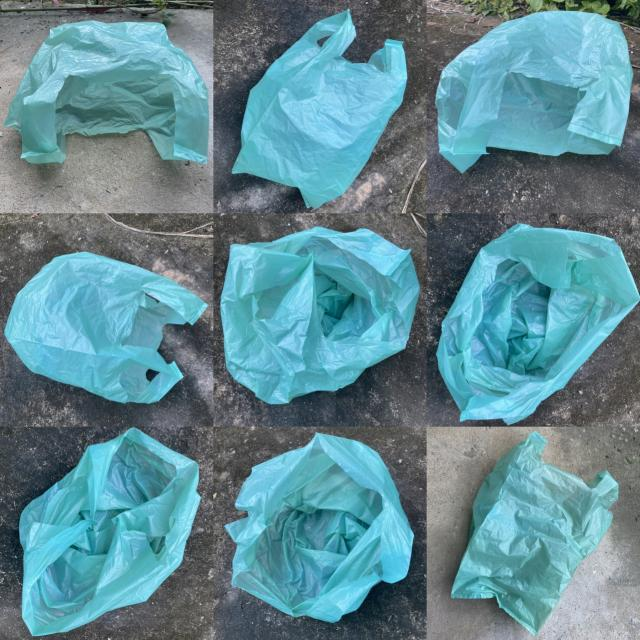Single-layer Plastic: (436, 224, 640, 424), (19, 428, 200, 636), (225, 434, 414, 622), (232, 10, 408, 208), (221, 228, 419, 404), (451, 431, 619, 633), (436, 11, 632, 172), (5, 252, 206, 403), (5, 21, 209, 164)
